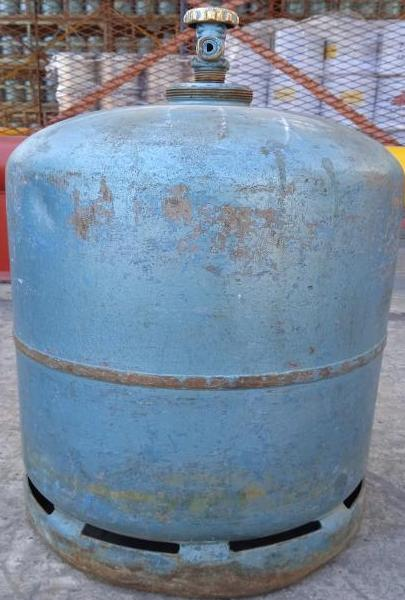cylinder: (1, 1, 405, 600)
